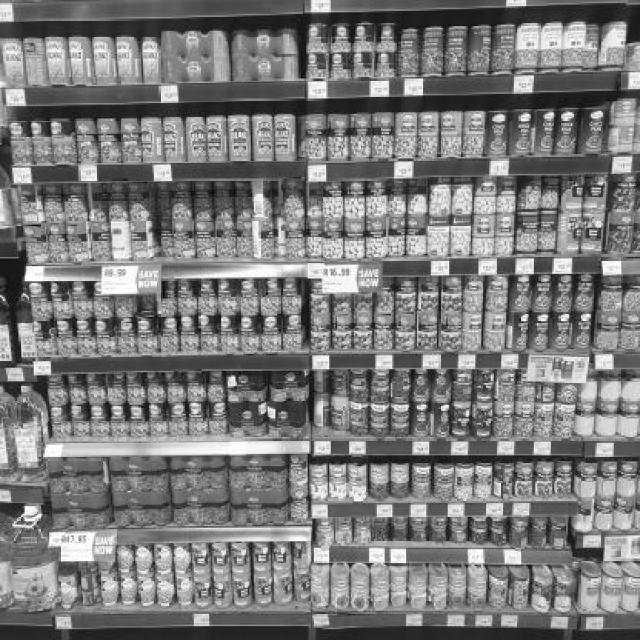Beans: (172, 215, 192, 237), (109, 178, 129, 200), (20, 224, 42, 242), (238, 314, 260, 332), (128, 182, 150, 200), (88, 403, 112, 419), (62, 184, 89, 198), (368, 217, 386, 237), (71, 282, 89, 302), (30, 283, 48, 302), (329, 114, 348, 132), (308, 115, 326, 134), (283, 178, 302, 196), (158, 317, 178, 334), (177, 314, 195, 332), (406, 215, 425, 232), (343, 222, 365, 236), (288, 218, 304, 237), (325, 221, 344, 237), (199, 316, 218, 332), (58, 318, 73, 338), (193, 179, 210, 196), (308, 218, 324, 236), (355, 310, 371, 328), (398, 312, 416, 328), (167, 402, 185, 418), (331, 52, 349, 68), (349, 178, 365, 196), (212, 180, 231, 195), (398, 278, 418, 292), (304, 24, 324, 38), (164, 277, 176, 300), (283, 278, 300, 294), (266, 280, 282, 297), (208, 369, 225, 385), (234, 181, 251, 197), (220, 314, 238, 329), (195, 220, 214, 234), (445, 277, 464, 291), (218, 219, 234, 235), (242, 281, 258, 297), (446, 312, 462, 328), (126, 372, 142, 388), (109, 402, 125, 418), (52, 122, 68, 138), (237, 220, 252, 237), (354, 114, 369, 131), (92, 320, 110, 334), (419, 312, 438, 325), (138, 317, 154, 332), (9, 125, 25, 140), (174, 181, 189, 197), (287, 316, 304, 330), (129, 406, 146, 420), (377, 116, 394, 130), (17, 184, 34, 198), (378, 25, 396, 38), (265, 315, 283, 328), (332, 26, 350, 39), (117, 321, 135, 334), (185, 369, 203, 382), (174, 220, 189, 235), (389, 218, 405, 232), (200, 279, 214, 295), (376, 314, 392, 328), (148, 403, 162, 419), (376, 50, 392, 64), (46, 187, 62, 201), (32, 317, 45, 334), (326, 183, 346, 194), (178, 280, 192, 295), (336, 314, 350, 329), (189, 402, 205, 415), (218, 280, 232, 294), (77, 318, 91, 332), (352, 50, 366, 64), (66, 225, 79, 240), (312, 315, 328, 327), (165, 371, 181, 383), (31, 123, 43, 139), (69, 406, 88, 416), (85, 374, 106, 383), (354, 25, 369, 37), (51, 408, 66, 420), (50, 281, 61, 297), (213, 402, 225, 416), (49, 223, 60, 237), (147, 371, 161, 382), (66, 374, 82, 383), (308, 52, 317, 66), (363, 311, 372, 317)
